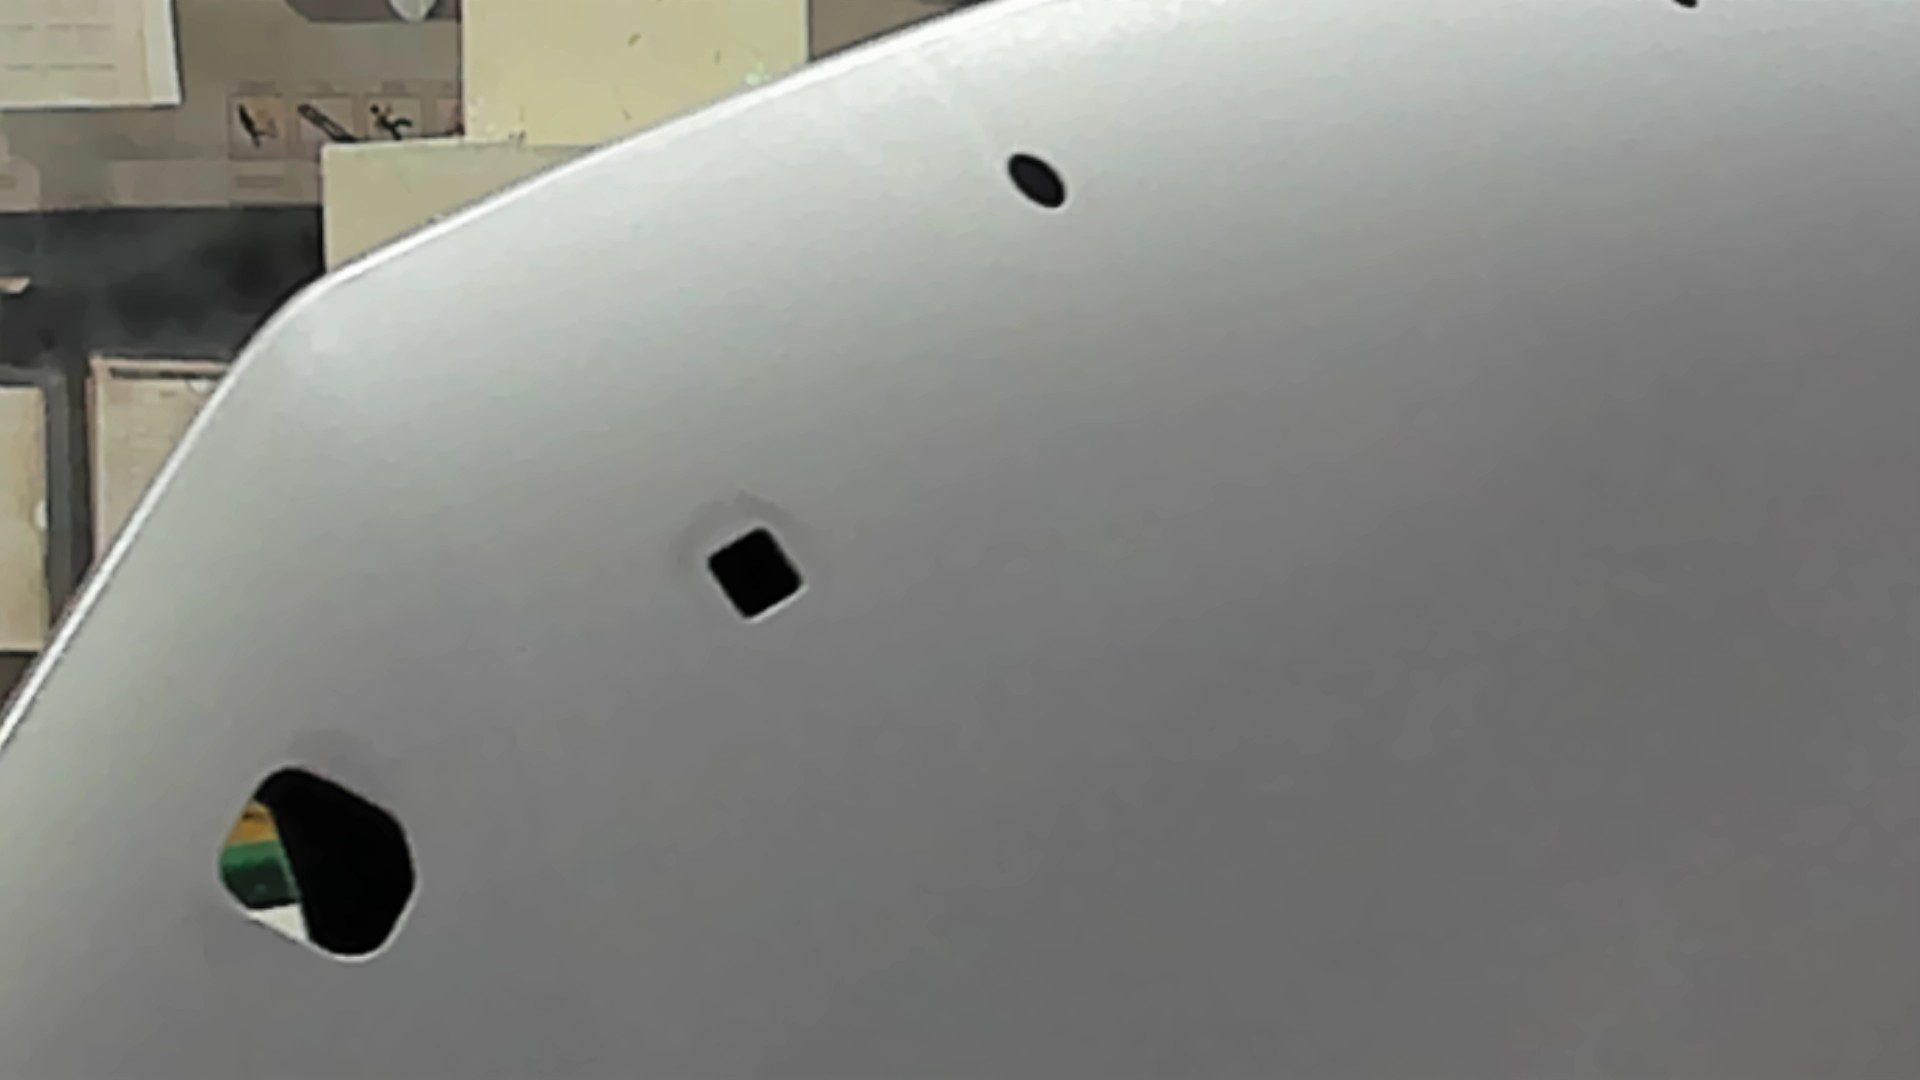chico: (1000, 140, 1073, 218)
grande: (198, 754, 434, 973)
mediano: (695, 510, 822, 629)
